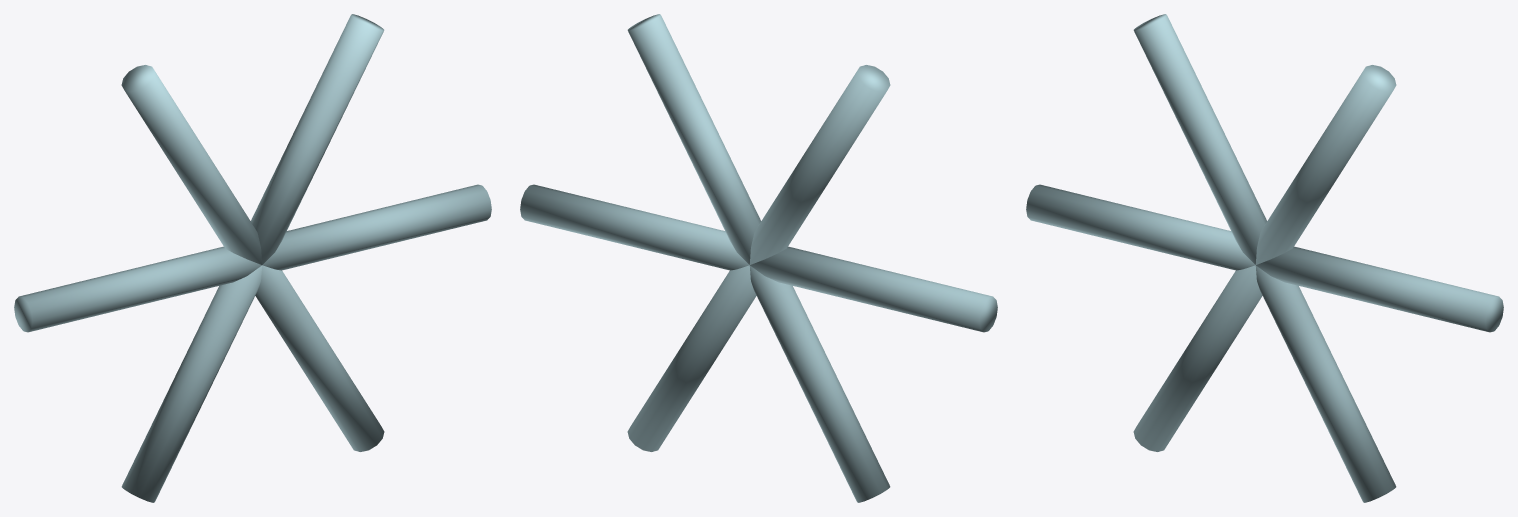
File: snowflake_pickup.glb
The picture shows the model from 3 angles, left to right: view 1: azimuth 30°, elevation 25°; view 2: azimuth 150°, elevation 25°; view 3: azimuth 330°, elevation 25°; orthographic projection.
Visible parts, largest first — view 1: snowflake; view 2: snowflake; view 3: snowflake.
Boxes of the visible parts, x1=… form: snowflake: x1=14, y1=14, x2=491, y2=502; snowflake: x1=520, y1=14, x2=997, y2=502; snowflake: x1=1026, y1=14, x2=1503, y2=502.
Bounding box in the file's own units: 1 × 0.901 × 0.07.
1 material, 1 textured.
